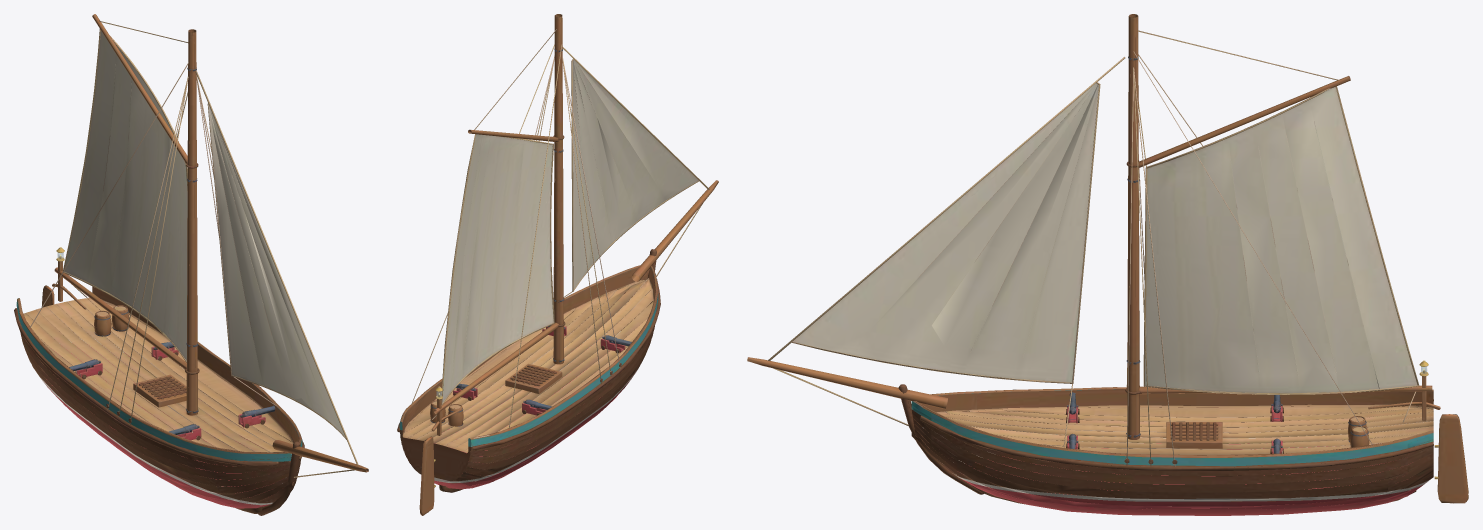
The model's file is balandra.glb.
The picture shows the model from 3 angles, left to right: view 1: azimuth 30°, elevation 25°; view 2: azimuth 150°, elevation 25°; view 3: azimuth 270°, elevation 25°; orthographic projection. The views are drawn at different scales.
Visible parts, largest first — view 1: pirate-sloop_body; view 2: pirate-sloop_body; view 3: pirate-sloop_body.
Boxes of the visible parts, left/top/right/bottom form: pirate-sloop_body: left=14, top=14, right=368, bottom=515; pirate-sloop_body: left=397, top=14, right=718, bottom=515; pirate-sloop_body: left=747, top=14, right=1468, bottom=515.
Size of the model in its own units: 3.92 by 12.6 by 16.6.
Materials: 4 (1 with a texture image).
